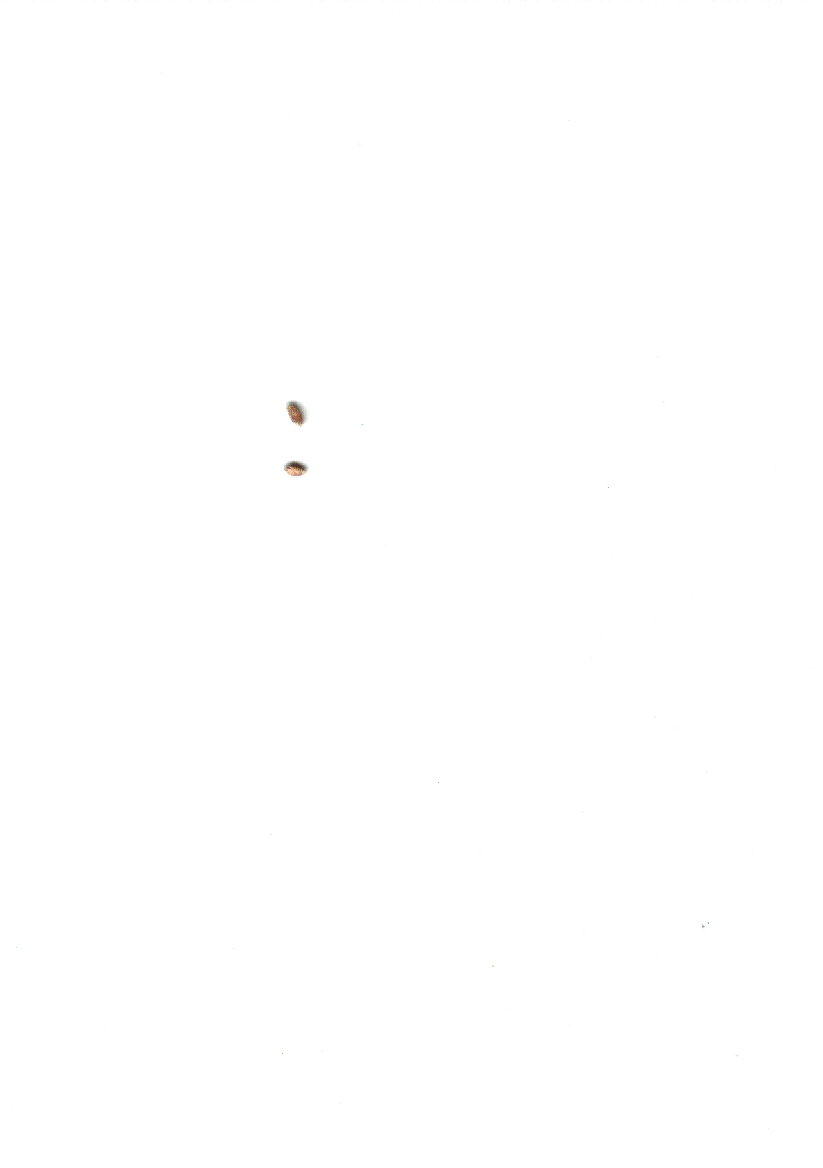grains: (280, 453, 315, 488), (283, 394, 308, 433)
